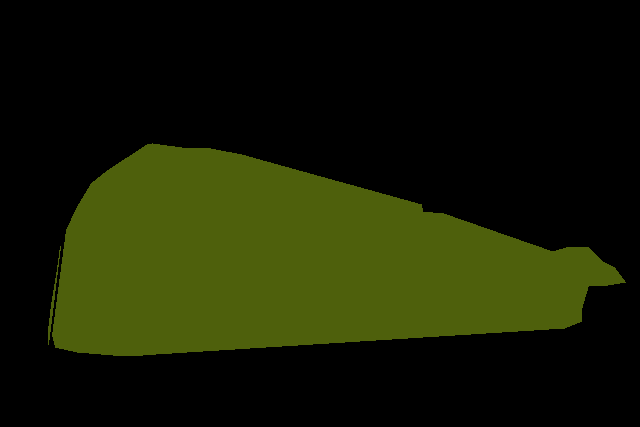Train: (48, 143, 626, 356)
